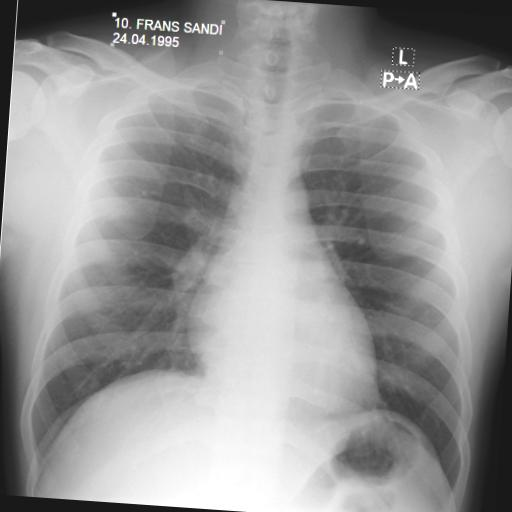normal: (10, 14, 504, 510)
